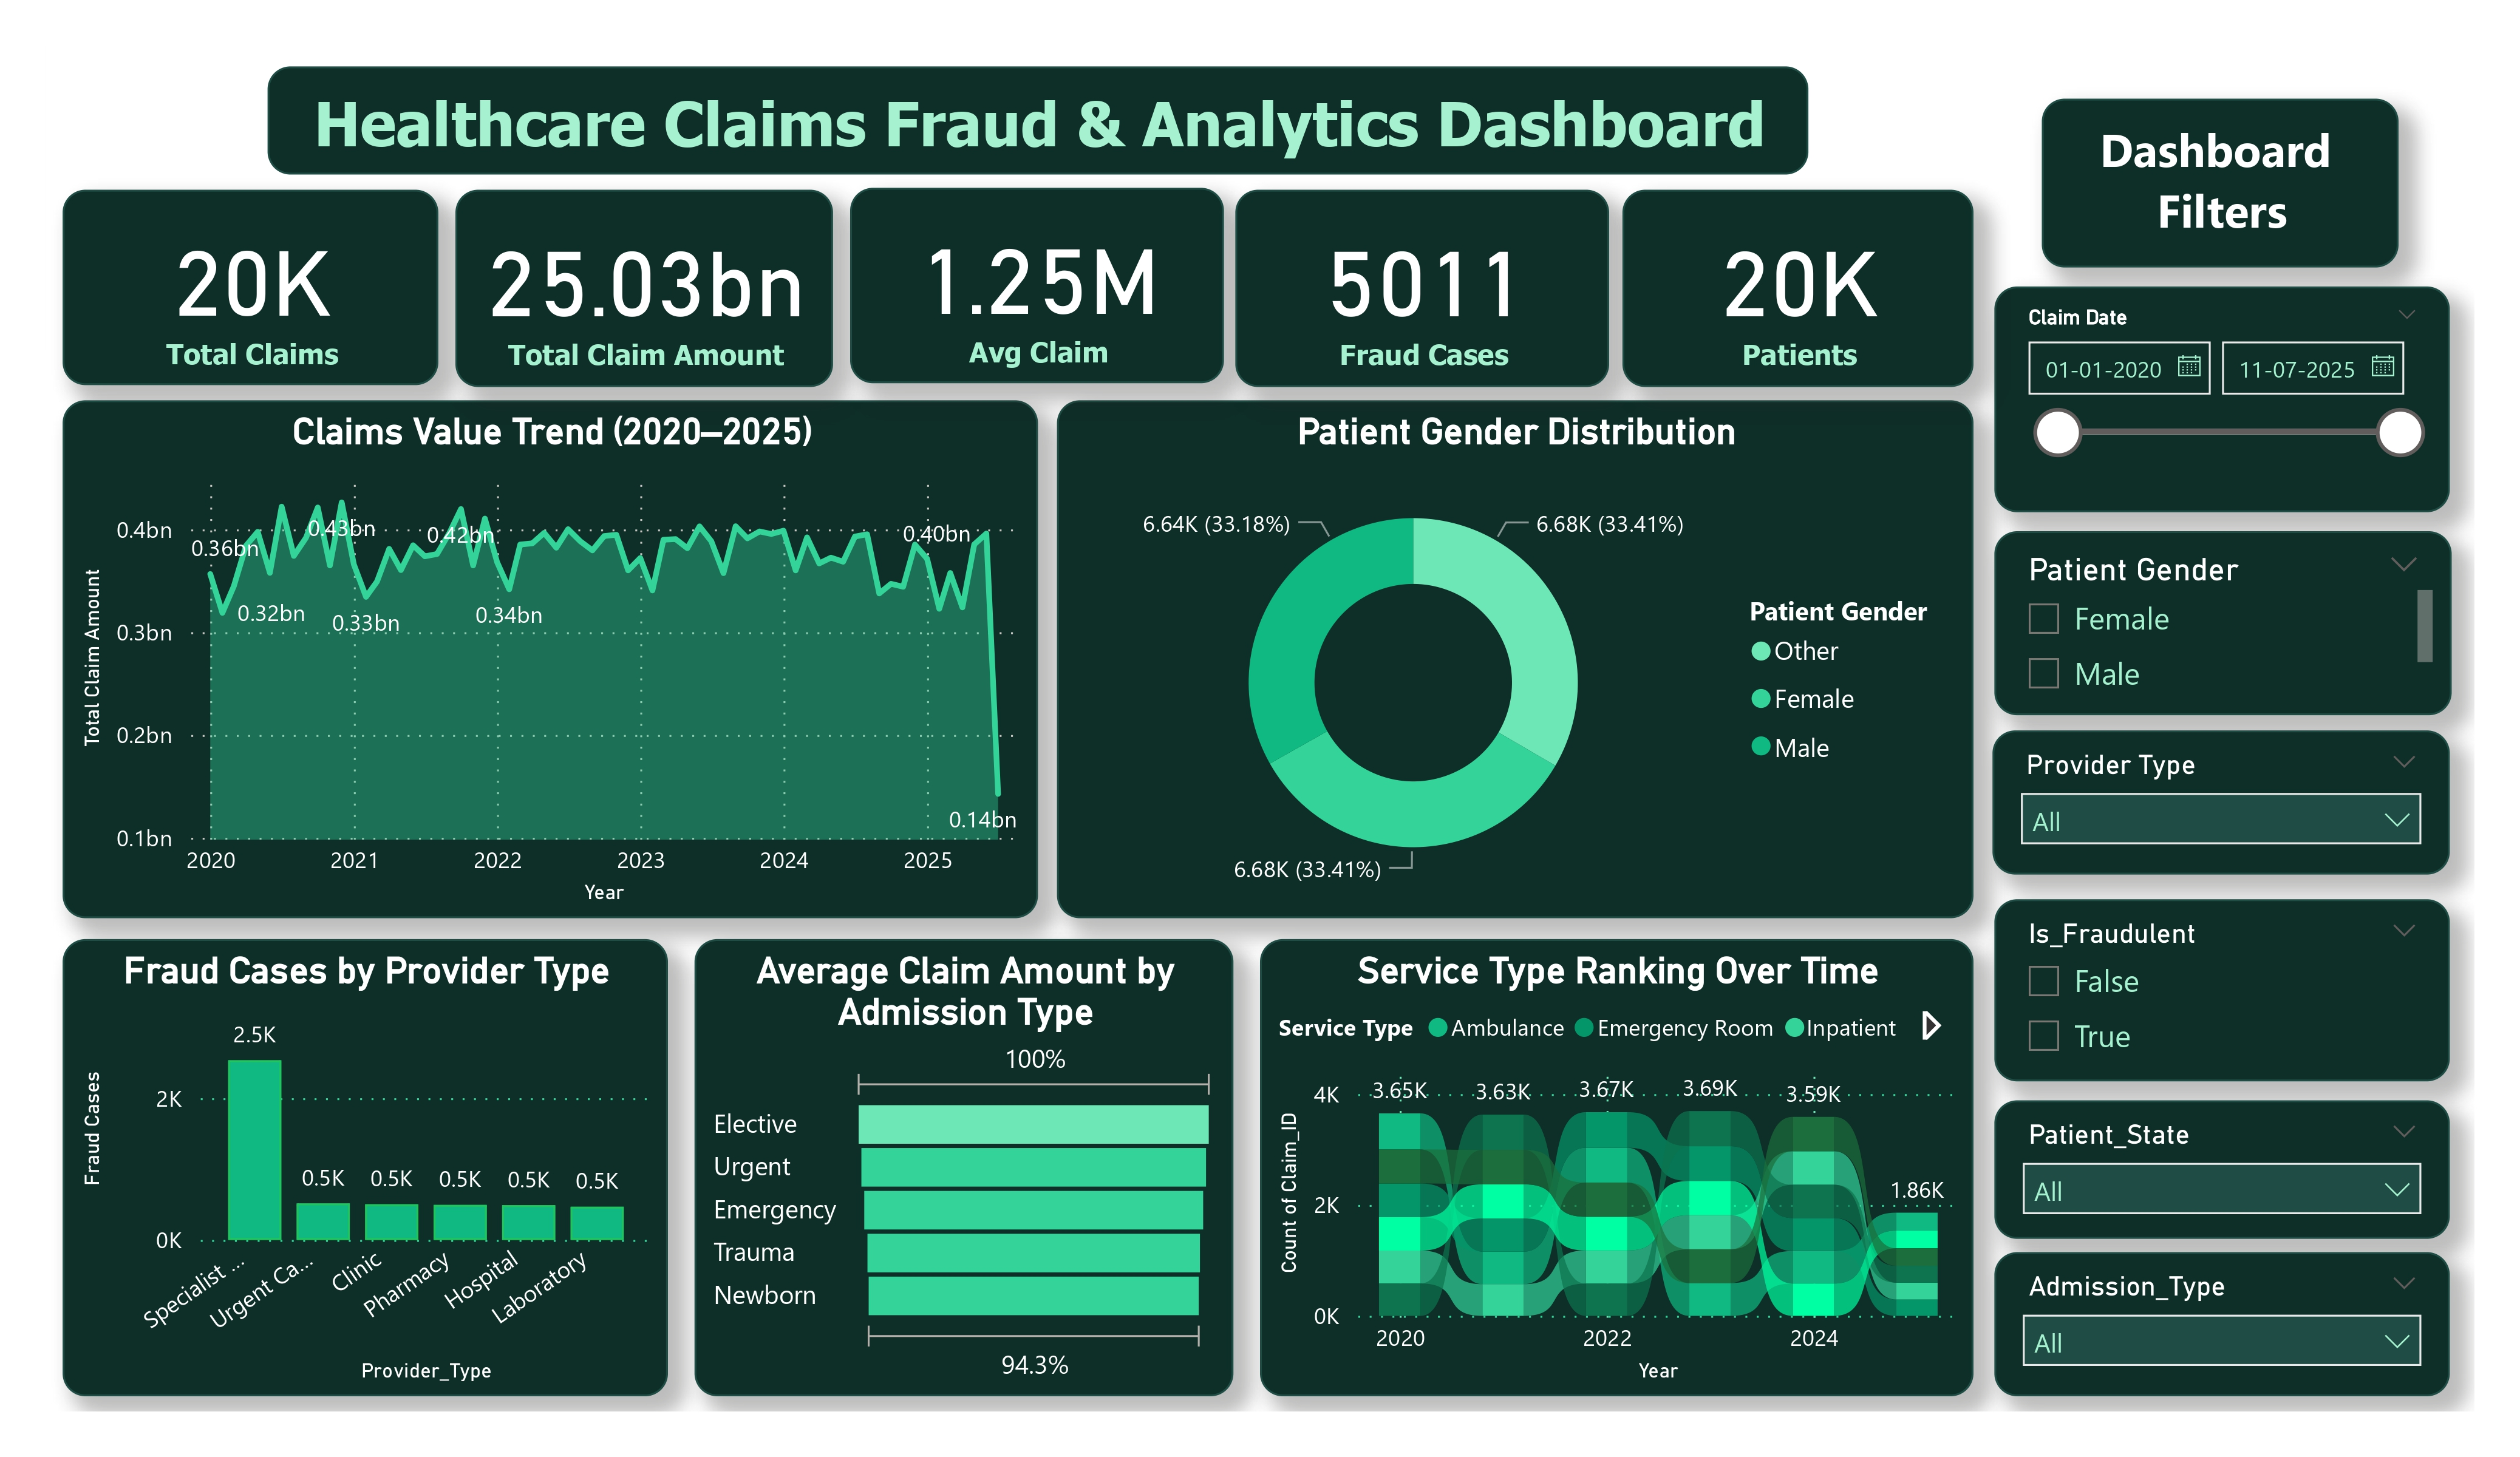

Layout of this report page (visuals, bound fields, positions):
{"tool":"powerbi","page":{"name":"DASHBOARD","canvas":[1280,720],"ordinal":0},"visuals":[{"type":"textbox","box":[116.8,10.7,811.9,57.7],"z":0},{"type":"card","fields":{"Values":["synthetic_health_claims.Total Claims"]},"box":[9.5,75.7,197.6,103],"z":1000},{"type":"areaChart","title":"Claims Value Trend (2020–2025)","fields":{"Y":["synthetic_health_claims.Total Claim Amount"],"Category":["synthetic_health_claims.Claim_Date.Variation.Date Hierarchy.Year","synthetic_health_claims.Claim_Date.Variation.Date Hierarchy.Quarter","synthetic_health_claims.Claim_Date.Variation.Date Hierarchy.Month"]},"box":[9.5,187.1,514,273.3],"z":2000},{"type":"donutChart","title":"Patient Gender Distribution","fields":{"Category":["synthetic_health_claims.Patient_Gender"],"Y":["Count(synthetic_health_claims.Patient_ID)"]},"box":[532.9,187.1,483.5,273.3],"z":3000},{"type":"clusteredColumnChart","title":"Fraud Cases by Provider Type","fields":{"Category":["synthetic_health_claims.Provider_Type"],"Y":["synthetic_health_claims.Fraud Cases"]},"box":[9.5,470.9,318.5,240.7],"z":4000},{"type":"funnel","title":"Average Claim Amount by Admission Type","fields":{"Category":["synthetic_health_claims.Admission_Type"],"Y":["synthetic_health_claims.Avg Claim"]},"box":[341.6,470.9,284.9,240.7],"z":5000},{"type":"ribbonChart","title":"Service Type Ranking Over Time","fields":{"Y":["CountNonNull(synthetic_health_claims.Claim_ID)"],"Series":["synthetic_health_claims.Service_Type"],"Category":["synthetic_health_claims.Claim_Date.Variation.Date Hierarchy.Year"]},"box":[640.1,470.9,376.3,240.7],"z":6000},{"type":"textbox","box":[1052.2,28.4,188.2,88.3],"z":7000},{"type":"slicer","fields":{"Values":["synthetic_health_claims.Claim_Date"]},"box":[1026.9,127.2,239.7,118.8],"z":8000},{"type":"slicer","fields":{"Values":["synthetic_health_claims.Patient_Gender"]},"box":[1026.9,256.5,240.7,96.7],"z":9000},{"type":"slicer","fields":{"Values":["synthetic_health_claims.Provider_Type"]},"box":[1025.9,360.5,240.7,76.7],"z":10000},{"type":"slicer","fields":{"Values":["synthetic_health_claims.Is_Fraudulent"]},"box":[1026.9,449.9,239.7,95.7],"z":11000},{"type":"slicer","fields":{"Values":["synthetic_health_claims.Patient_State"]},"box":[1026.9,556,239.7,72.5],"z":12000},{"type":"slicer","fields":{"Values":["synthetic_health_claims.Admission_Type"]},"box":[1026.9,635.9,239.7,75.7],"z":13000},{"type":"card","fields":{"Values":["synthetic_health_claims.Total Claim Amount"]},"box":[216.1,76.5,198.6,103.3],"z":14000},{"type":"card","fields":{"Values":["synthetic_health_claims.Avg Claim"]},"box":[424.1,75.2,197.3,103.3],"z":15000},{"type":"card","fields":{"Values":["synthetic_health_claims.Fraud Cases"]},"box":[626.7,76.5,197.3,103.3],"z":16000},{"type":"card","fields":{"Values":["synthetic_health_claims.Patients"]},"box":[830.7,76.5,185.2,103.3],"z":17000}]}

Visuals, with their boxes in screenshot pixels (x1, y1, x2, y2):
textbox: (284,66,1805,174)
card - synthetic_health_claims.Total Claims: (83,188,454,381)
"Claims Value Trend (2020–2025)" areaChart: (83,396,1046,908)
"Patient Gender Distribution" donutChart: (1064,396,1969,908)
"Fraud Cases by Provider Type" clusteredColumnChart: (83,928,680,1378)
"Average Claim Amount by Admission Type" funnel: (706,928,1239,1378)
"Service Type Ranking Over Time" ribbonChart: (1264,928,1969,1378)
textbox: (2036,99,2388,265)
slicer - synthetic_health_claims.Claim_Date: (1989,284,2437,506)
slicer - synthetic_health_claims.Patient_Gender: (1989,526,2439,707)
slicer - synthetic_health_claims.Provider_Type: (1987,721,2437,864)
slicer - synthetic_health_claims.Is_Fraudulent: (1989,888,2437,1067)
slicer - synthetic_health_claims.Patient_State: (1989,1087,2437,1223)
slicer - synthetic_health_claims.Admission_Type: (1989,1237,2437,1378)
card - synthetic_health_claims.Total Claim Amount: (471,189,842,382)
card - synthetic_health_claims.Avg Claim: (860,187,1229,380)
card - synthetic_health_claims.Fraud Cases: (1239,189,1609,382)
card - synthetic_health_claims.Patients: (1621,189,1968,382)
